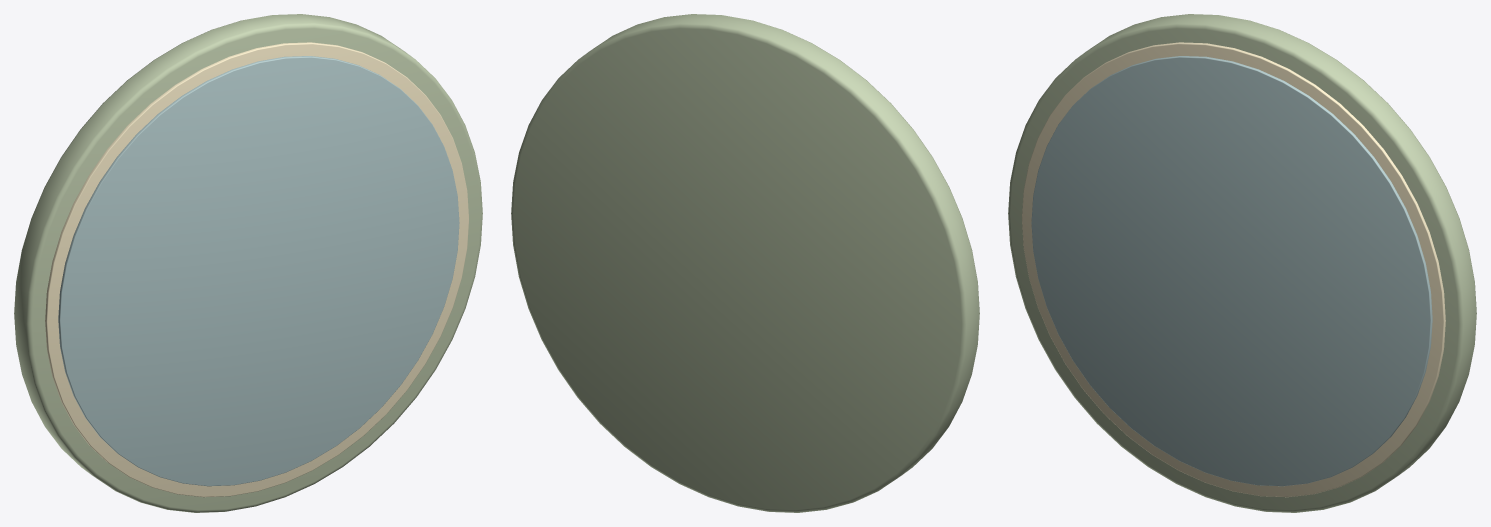
The model's file is bath-mirror-halo.glb.
3 renders of one model, left to right at view 1: azimuth 30°, elevation 25°; view 2: azimuth 150°, elevation 25°; view 3: azimuth 330°, elevation 25°, orthographic.
Parts seen in each view (by area): view 1: bath-mirror-halo; view 2: bath-mirror-halo; view 3: bath-mirror-halo.
Part boxes in pixels (x1,y1,x2,y2): bath-mirror-halo: [14, 14, 482, 512]; bath-mirror-halo: [511, 14, 979, 512]; bath-mirror-halo: [1008, 14, 1476, 512].
Bounding box in the file's own units: 0.75 × 0.75 × 0.055.
